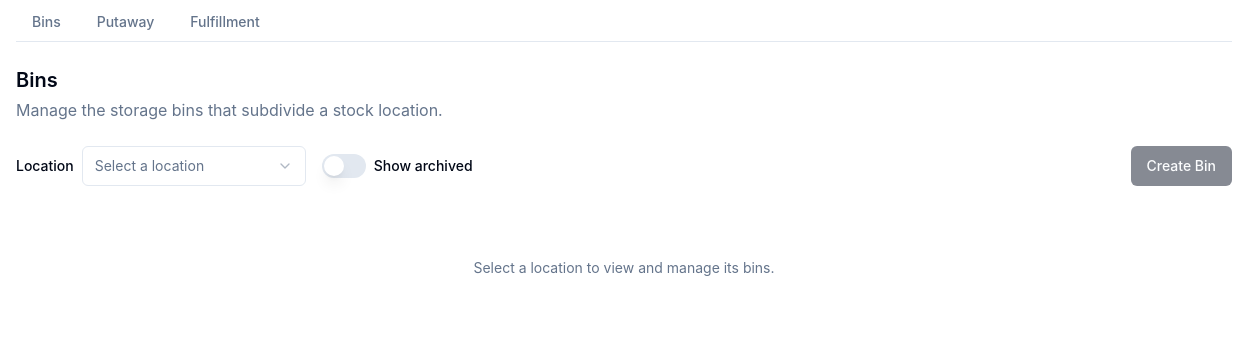
Scenario: Bins screen › renders bins for the selected location
Expected: the text "Select a location to view and manage its bins." is shown, [473,259,774,276]
Click the dropdown labelled "location" at (194, 166), box [82,146,306,186]
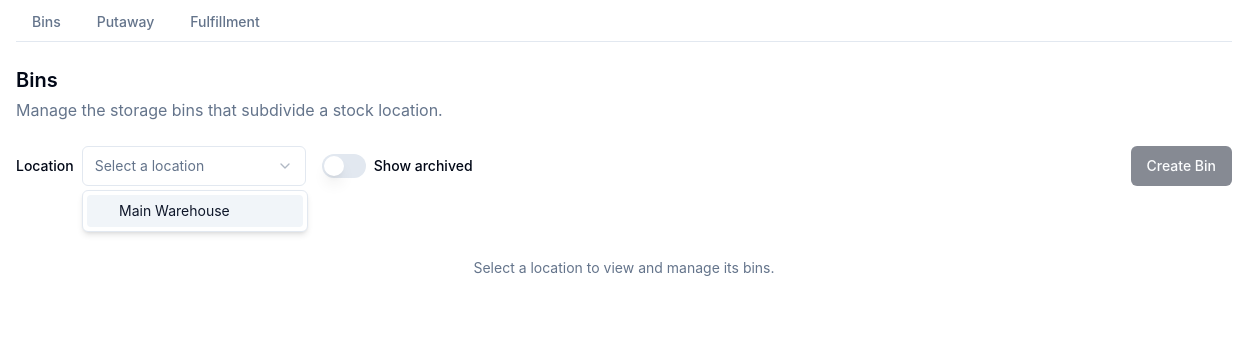
Click the option "Main Warehouse" at (195, 211), box [87,195,303,227]
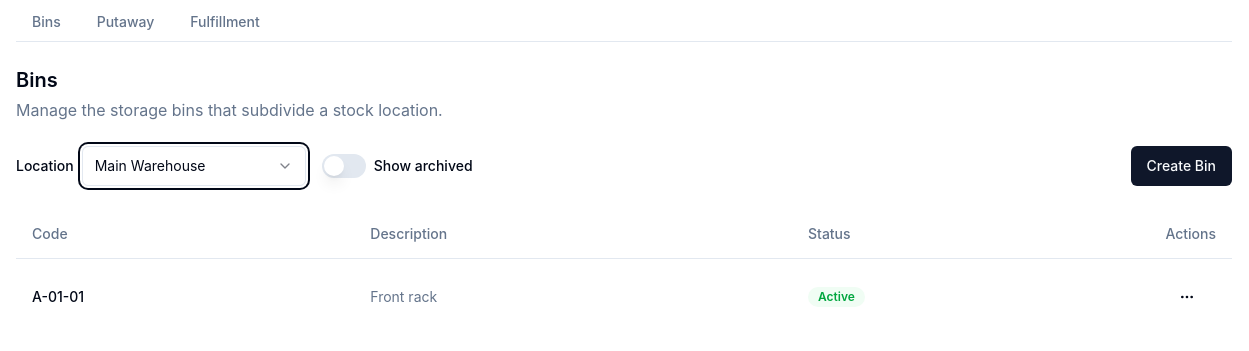
Now the text "A-01-01" is shown, box [16,258,354,334]
Now the text "Front rack" is shown, box [354,258,792,334]
Now the text "Active" is shown, box [808,287,865,307]
